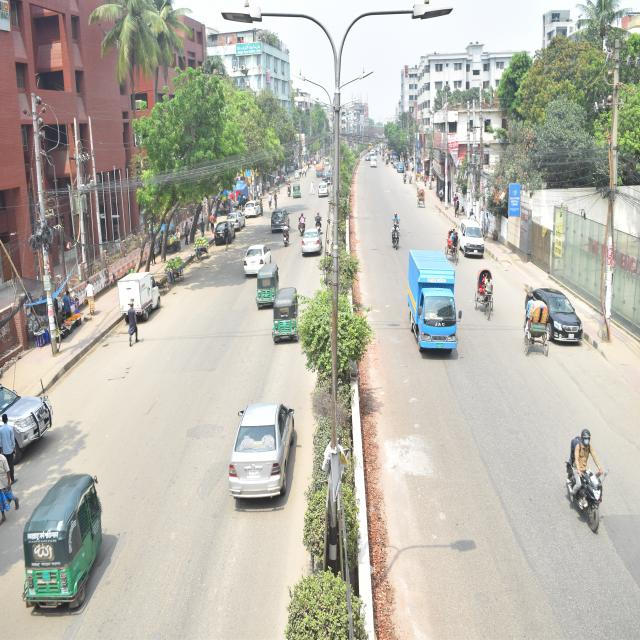car: (512, 271, 598, 381), (0, 373, 66, 481), (452, 209, 498, 277), (240, 236, 284, 284), (270, 204, 299, 246), (300, 227, 330, 267), (242, 193, 276, 227), (213, 213, 238, 255), (223, 205, 250, 229), (318, 176, 332, 204), (369, 154, 380, 168)
microbus: (222, 372, 315, 529)
motorbike: (560, 415, 618, 596), (384, 208, 405, 260), (314, 206, 329, 240), (295, 207, 305, 239), (392, 204, 400, 234), (283, 221, 291, 248)
pickup-van: (107, 263, 172, 335)
truck: (405, 236, 467, 378), (316, 158, 325, 185)
